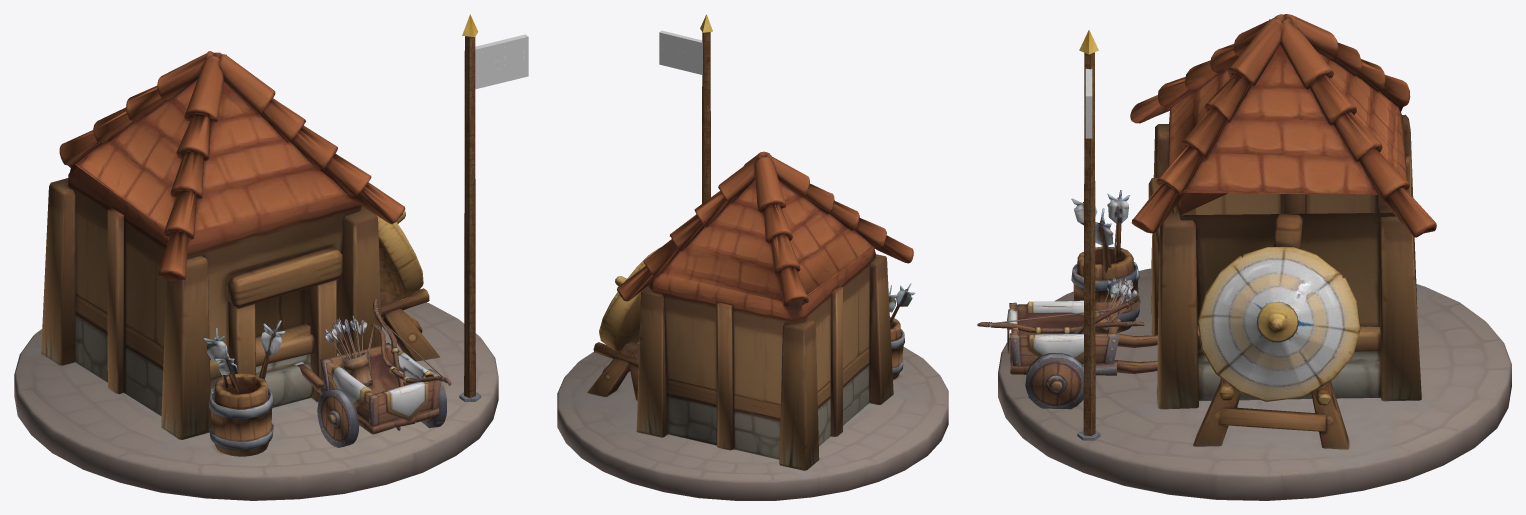
File: range.glb
3 views of the same model, side by side, from view 1: azimuth 30°, elevation 25°; view 2: azimuth 150°, elevation 25°; view 3: azimuth 270°, elevation 25° (orthographic). The views are drawn at different scales.
Visible parts, largest first — view 1: range, addon_cart, range_mast, spin_range; view 2: range, range_mast, spin_range; view 3: range, addon_cart, range_mast.
Boxes of the visible parts, x1,y1,x2,y2 form: range: [14, 51, 498, 500]; addon_cart: [294, 299, 451, 447]; range_mast: [459, 14, 481, 401]; spin_range: [475, 34, 528, 89]; range: [557, 151, 948, 500]; range_mast: [700, 14, 712, 203]; spin_range: [659, 30, 702, 74]; range: [998, 14, 1511, 500]; addon_cart: [977, 277, 1157, 409]; range_mast: [1077, 30, 1100, 440].
Bounding box in the file's own units: 3.1 × 2.89 × 3.23.
8 materials, 8 textured.
